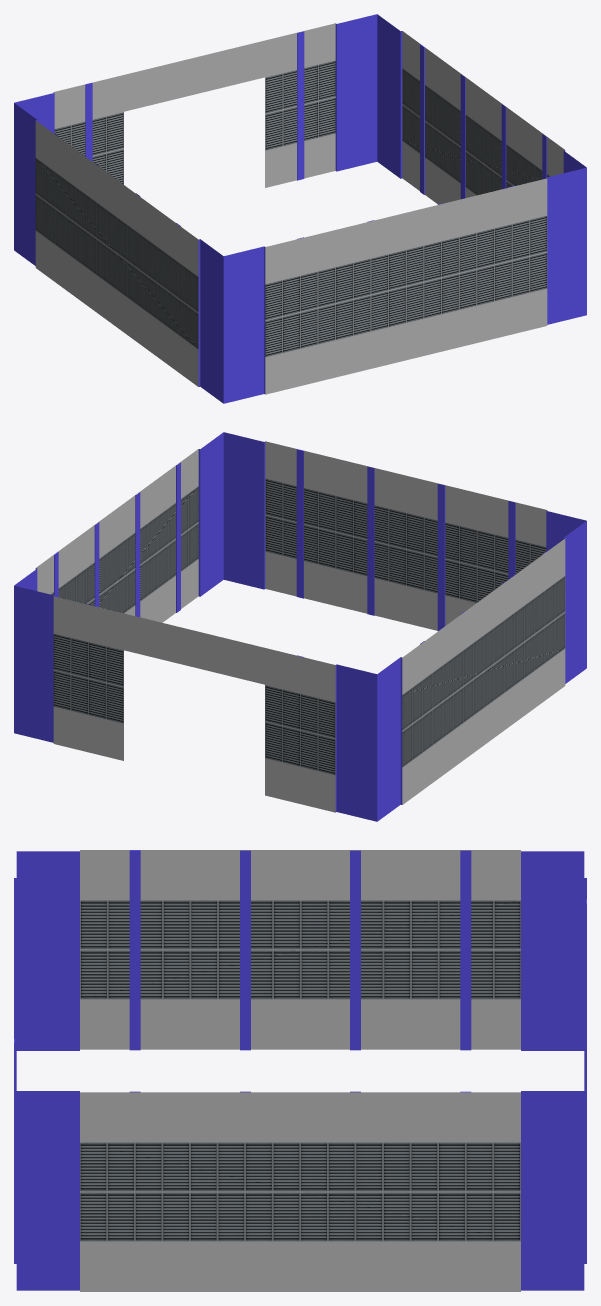
Rendered from Elevator_01_ShaftExit.FBX.
3 views of the same model, one above another, from view 1: azimuth 30°, elevation 25°; view 2: azimuth 150°, elevation 25°; view 3: azimuth 270°, elevation 25° (orthographic). The views are drawn at different scales.
Parts seen in each view (by area): view 1: Elevator_01_ShaftExit; view 2: Elevator_01_ShaftExit; view 3: Elevator_01_ShaftExit.
Boxes of the visible parts, x1=… form: Elevator_01_ShaftExit: x1=14, y1=14, x2=586, y2=403; Elevator_01_ShaftExit: x1=14, y1=432, x2=586, y2=821; Elevator_01_ShaftExit: x1=14, y1=850, x2=586, y2=1291.
Bounding box in the file's own units: 10.4 × 4 × 10.4.
